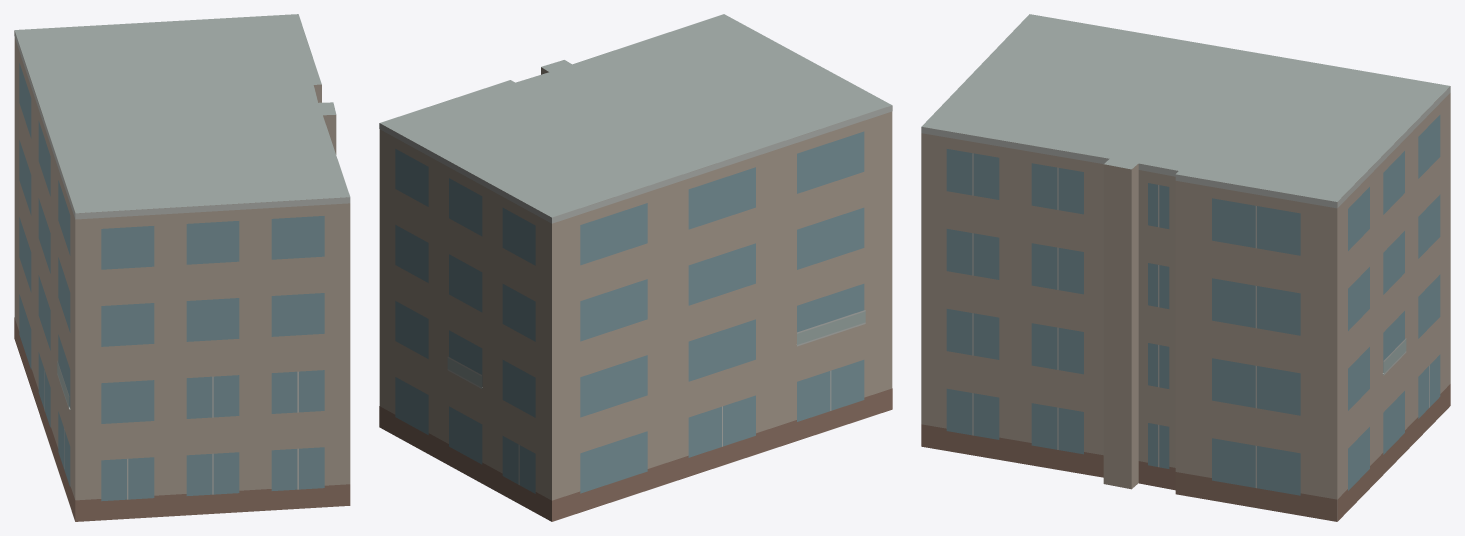
Rendered from survey-upis-32928098.glb.
3 views of the same model, side by side, from view 1: azimuth 30°, elevation 25°; view 2: azimuth 150°, elevation 25°; view 3: azimuth 270°, elevation 25° (orthographic). The views are drawn at different scales.
Visible parts, largest first — view 1: survey-upis-32928098.tmp; view 2: survey-upis-32928098.tmp; view 3: survey-upis-32928098.tmp.
Part boxes in pixels (box(x1,y1,x2,y2)): survey-upis-32928098.tmp: box(14, 14, 350, 521); survey-upis-32928098.tmp: box(379, 14, 892, 521); survey-upis-32928098.tmp: box(921, 14, 1450, 521).
Bounding box in the file's own units: 15.39 × 12.2 × 18.3.
